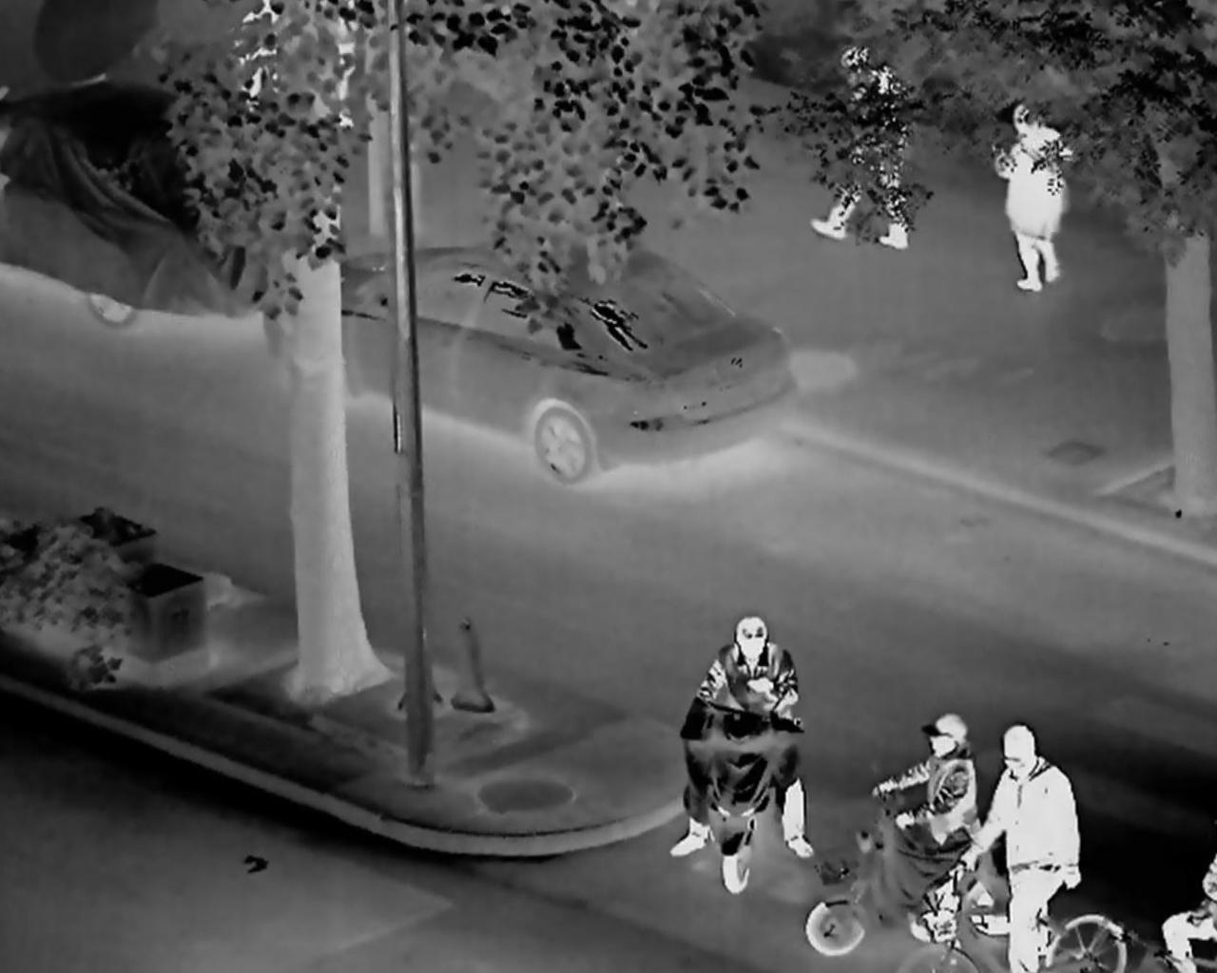person: (662, 609, 803, 869), (809, 32, 931, 271), (973, 724, 1085, 973), (873, 702, 984, 924), (974, 77, 1072, 300)
